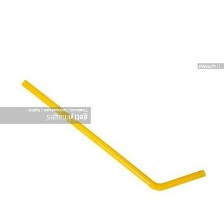drinking_straw: (18, 75, 210, 196)
